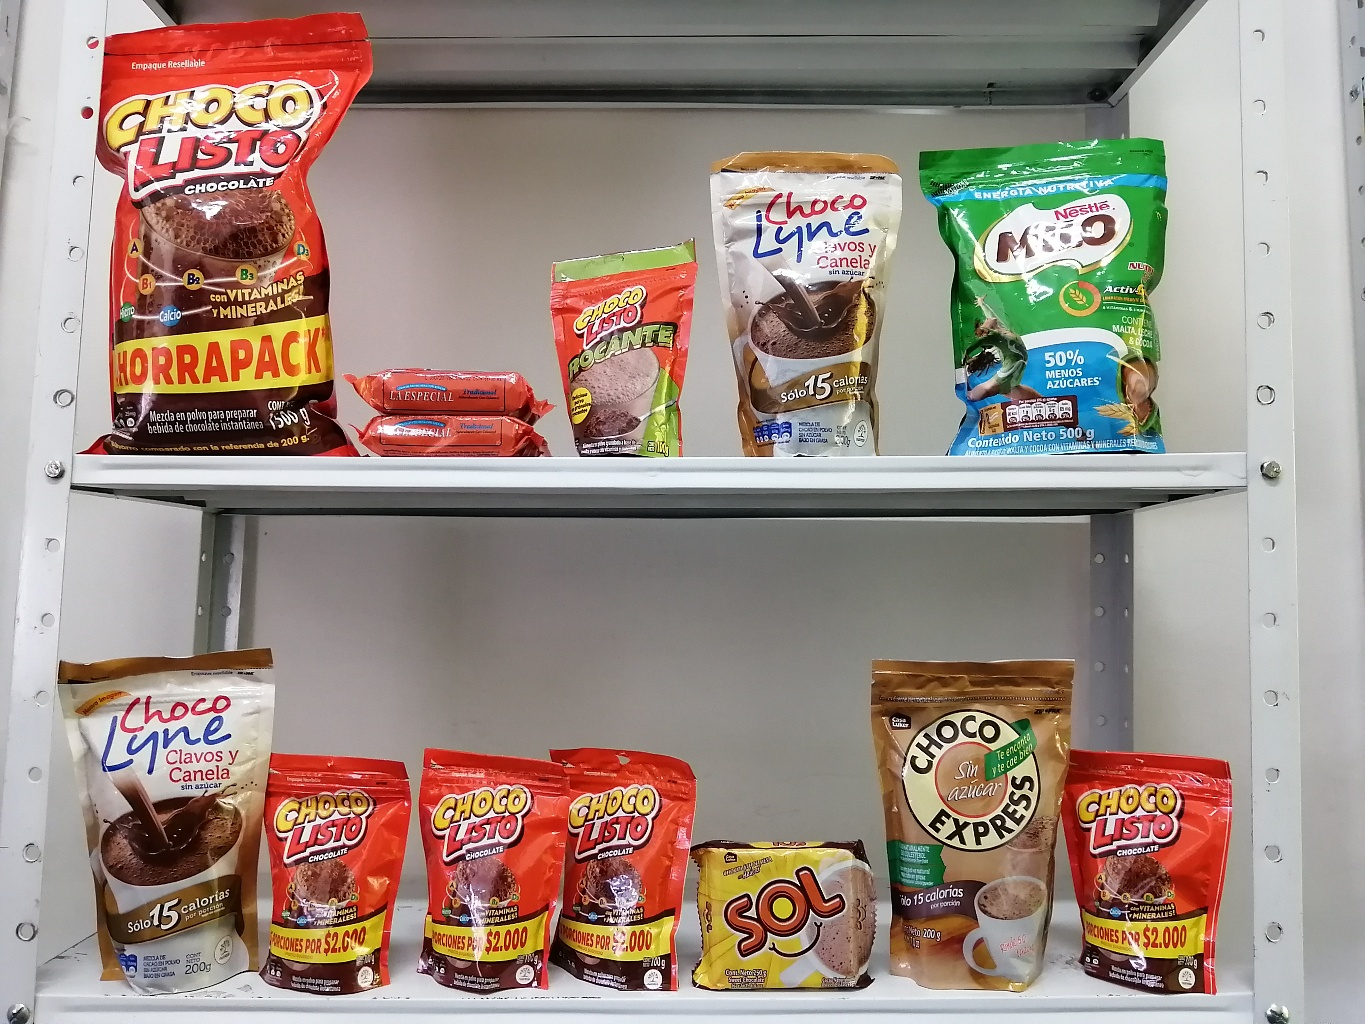COL0170102DYP10000: (546, 236, 705, 458)
COL0170103DYP1,500: (93, 6, 382, 464)
COL0170205DYP50000: (927, 114, 1198, 452)
